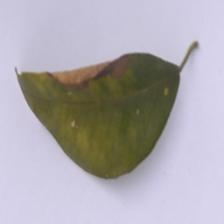black spot: (51, 53, 131, 93)
